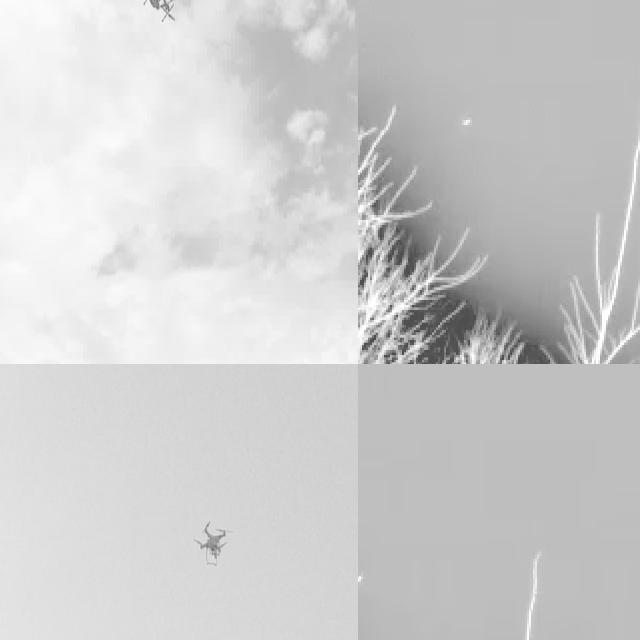0: (455, 110, 481, 142), (358, 566, 373, 599)
drone: (194, 515, 232, 566), (129, 0, 186, 26)
